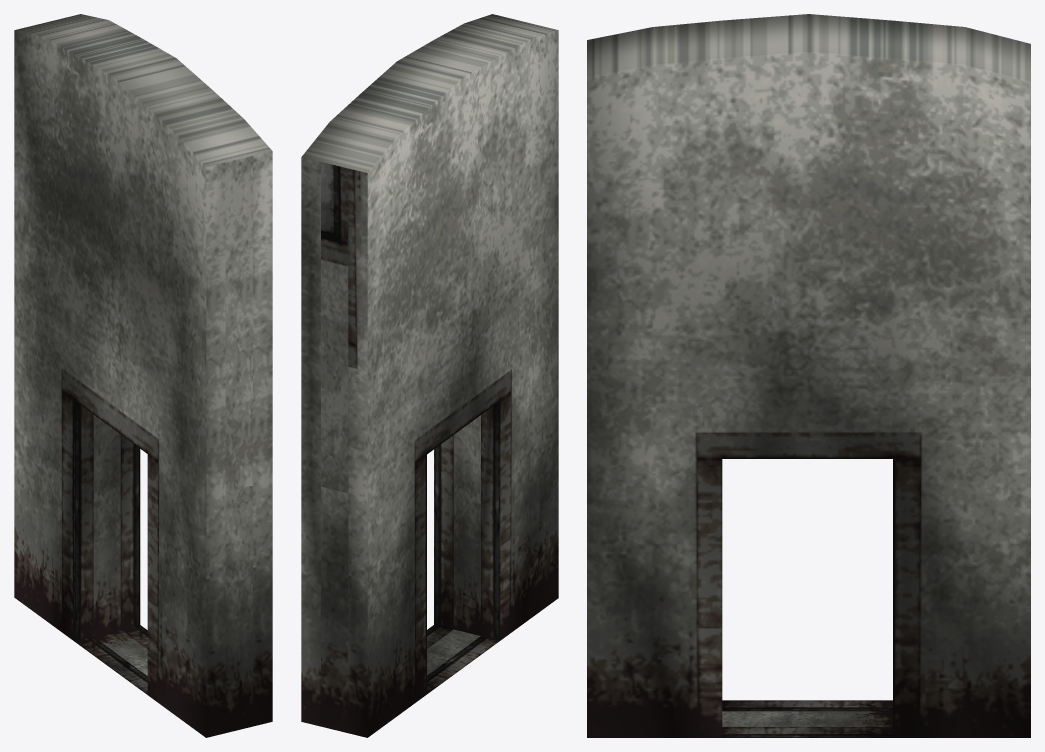
Rendered from SM_EC_ConcreteTunnel_DoorWay_0.fbx.
The picture shows the model from 3 angles, left to right: view 1: azimuth 30°, elevation 25°; view 2: azimuth 150°, elevation 25°; view 3: azimuth 270°, elevation 25°; orthographic projection. The views are drawn at different scales.
Parts seen in each view (by area): view 1: SM_EC_ConcreteTunnel_DoorWay_0; view 2: SM_EC_ConcreteTunnel_DoorWay_0; view 3: SM_EC_ConcreteTunnel_DoorWay_0.
Part boxes in pixels (x1,y1,x2,y2): SM_EC_ConcreteTunnel_DoorWay_0: [14, 14, 272, 737]; SM_EC_ConcreteTunnel_DoorWay_0: [301, 14, 558, 737]; SM_EC_ConcreteTunnel_DoorWay_0: [587, 14, 1030, 737].
Bounding box in the file's own units: 0.6001 × 3 × 5.12.
